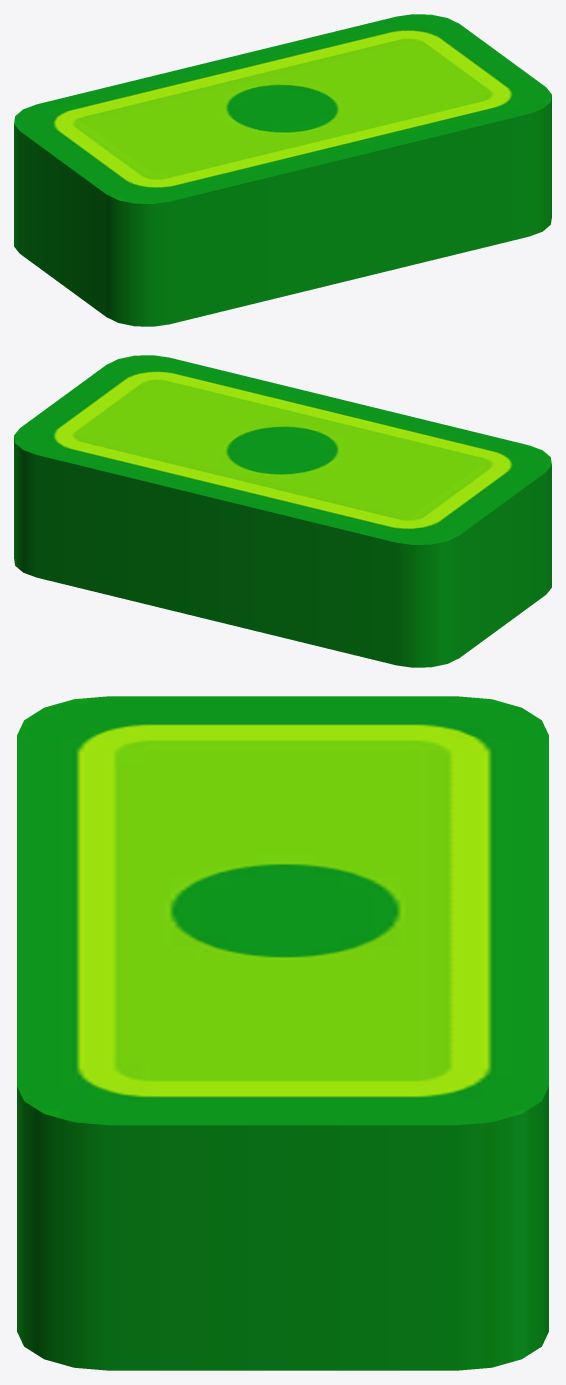
The model's file is money.fbx.
3 views of the same model, one above another, from view 1: azimuth 30°, elevation 25°; view 2: azimuth 150°, elevation 25°; view 3: azimuth 270°, elevation 25° (orthographic). The views are drawn at different scales.
Visible parts, largest first — view 1: money; view 2: money; view 3: money.
Part boxes in pixels (x1,y1,x2,y2): money: (14,14,551,326); money: (14,355,551,667); money: (17,696,548,1370).
Bounding box in the file's own units: 168 × 44.8 × 88.
Materials: 1 (1 with a texture image).
